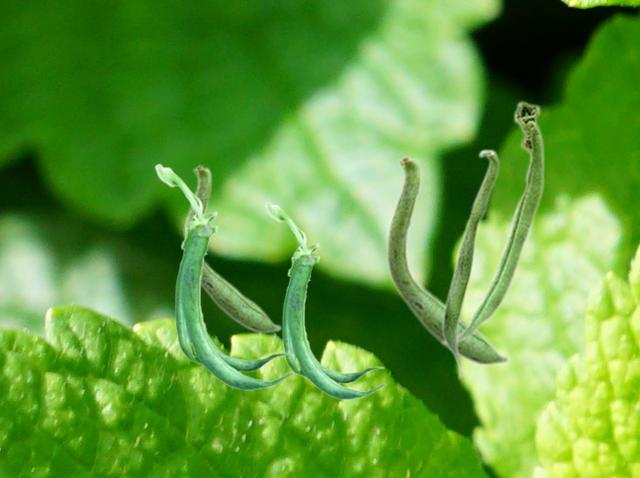french_bean: (154, 163, 293, 390), (385, 153, 509, 366), (440, 99, 544, 345), (264, 201, 385, 399), (183, 163, 281, 333), (441, 148, 499, 380)
